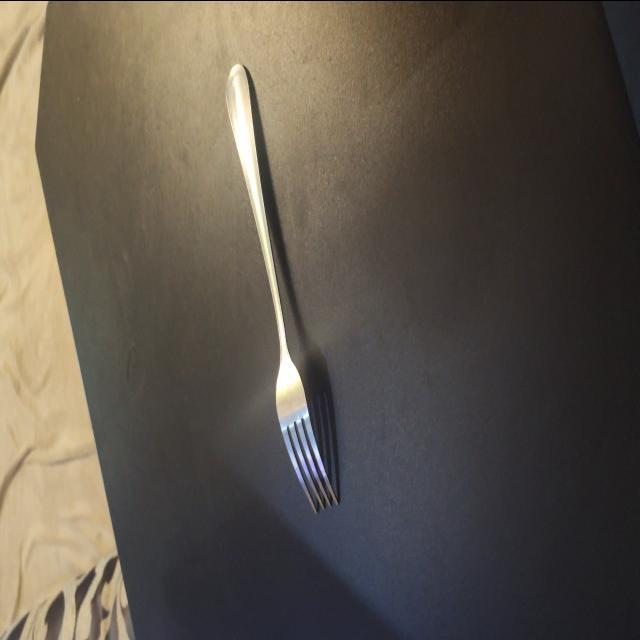plastic utensil: (226, 62, 338, 513)
